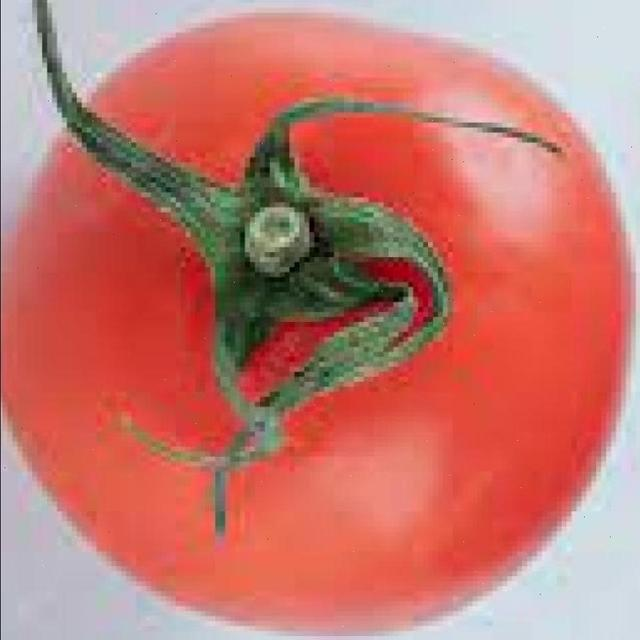Healthy Fruit: (10, 11, 425, 414)
